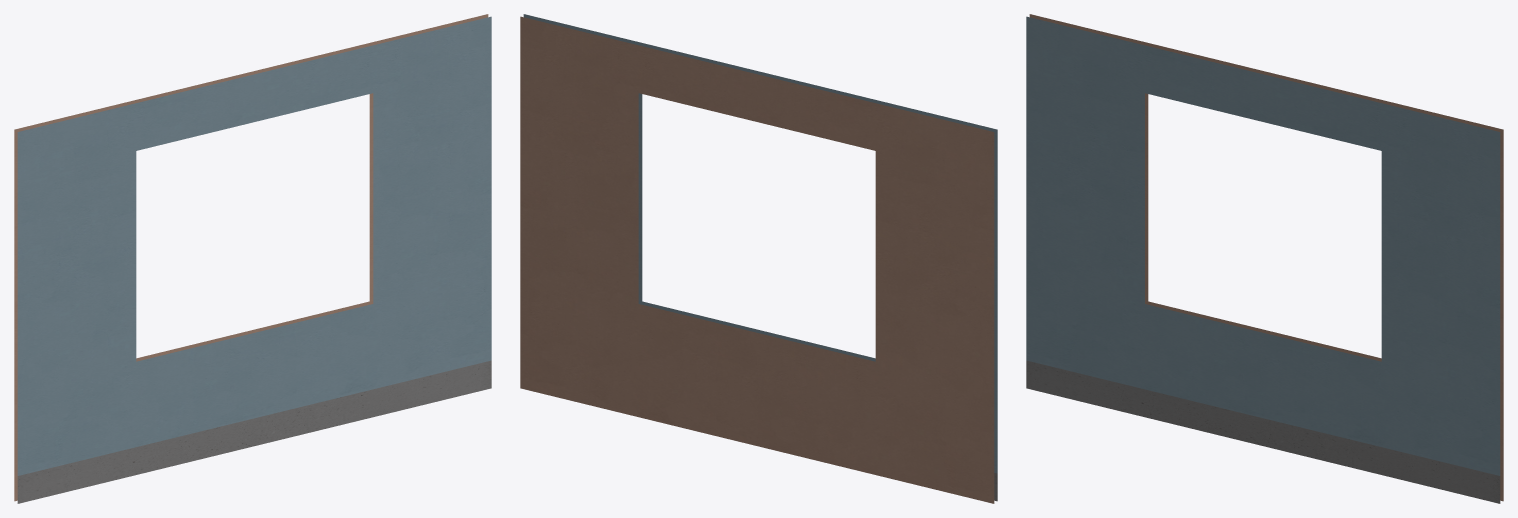
The model's file is wall_1B.FBX.
3 views of the same model, side by side, from view 1: azimuth 30°, elevation 25°; view 2: azimuth 150°, elevation 25°; view 3: azimuth 330°, elevation 25° (orthographic).
Visible parts, largest first — view 1: wall_1B; view 2: wall_1B; view 3: wall_1B.
Part boxes in pixels (x1,y1,x2,y2): wall_1B: (14, 14, 491, 503); wall_1B: (520, 14, 997, 503); wall_1B: (1026, 14, 1503, 503).
Bounding box in the file's own units: 40 × 30 × 0.5.
